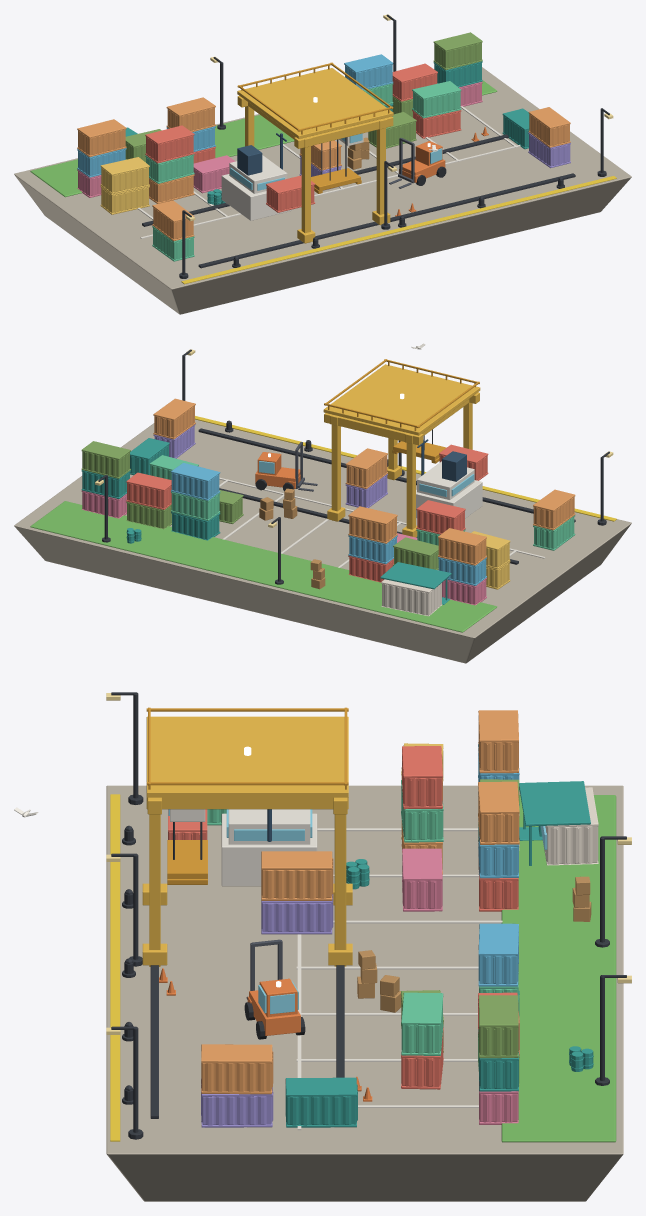
Rendered from Shipyard.fbx.
The picture shows the model from 3 angles, top to bottom: view 1: azimuth 30°, elevation 25°; view 2: azimuth 150°, elevation 25°; view 3: azimuth 270°, elevation 25°; orthographic projection. The views are drawn at different scales.
Parts seen in each view (by area): view 1: Quay, Crane_Frame, GrassApron, CraneRails, Ship_House, EdgeStripe, Container_c_moss.002, Container_c_coral.001, Container_c_lemon.001, Container_c_mint.002, Container_c_peach, Container_c_peach.001 (+27 smaller); view 2: Quay, GrassApron, Crane_Frame, Ship_House, Office_Body, Container_c_sky.002, Container_c_peach, Container_c_peach.001, Container_c_moss.002, CraneRails, Container_c_coral.002, Container_c_coral.001 (+29 smaller); view 3: Quay, GrassApron, Crane_Frame, Ship_House, LaneMarks, Container_c_peach.003, EdgeStripe, Container_c_teal.002, Container_c_peach.005, Office_Canopy, Container_c_mint.002, Container_c_peach.001 (+29 smaller).
Part boxes in pixels (box(x1,y1,x2,y2)): Quay: box(14, 67, 631, 314); Crane_Frame: box(237, 68, 393, 243); GrassApron: box(30, 80, 497, 197); CraneRails: box(142, 134, 575, 268); Ship_House: box(221, 155, 292, 220); EdgeStripe: box(181, 176, 616, 284); Container_c_moss.002: box(433, 32, 482, 70); Container_c_coral.001: box(145, 125, 194, 163); Container_c_lemon.001: box(100, 157, 149, 194); Container_c_mint.002: box(412, 81, 461, 118); Container_c_peach: box(77, 119, 126, 157); Container_c_peach.001: box(166, 97, 215, 132); Quay: box(14, 419, 631, 663); GrassApron: box(30, 501, 497, 632); Crane_Frame: box(323, 364, 480, 537); Ship_House: box(416, 461, 482, 518); Office_Body: box(381, 579, 442, 616); Container_c_sky.002: box(171, 462, 220, 500); Container_c_peach: box(438, 528, 486, 565); Container_c_peach.001: box(348, 506, 397, 543); Container_c_moss.002: box(81, 441, 130, 478); CraneRails: box(198, 428, 575, 564); Container_c_coral.002: box(126, 472, 171, 509); Container_c_coral.001: box(416, 500, 465, 534); Quay: box(106, 785, 623, 1201); GrassApron: box(501, 795, 616, 1142); Crane_Frame: box(142, 716, 352, 966); Ship_House: box(221, 809, 317, 886); LaneMarks: box(296, 828, 502, 1130); Container_c_peach.003: box(201, 1044, 273, 1094); EdgeStripe: box(110, 794, 120, 1141); Container_c_teal.002: box(285, 1077, 357, 1127); Container_c_peach.005: box(261, 851, 333, 900); Office_Canopy: box(519, 781, 590, 865); Container_c_mint.002: box(401, 992, 443, 1055); Container_c_peach.001: box(478, 781, 519, 844).
Bounding box in the file's own units: 3195 × 1025 × 2264.
